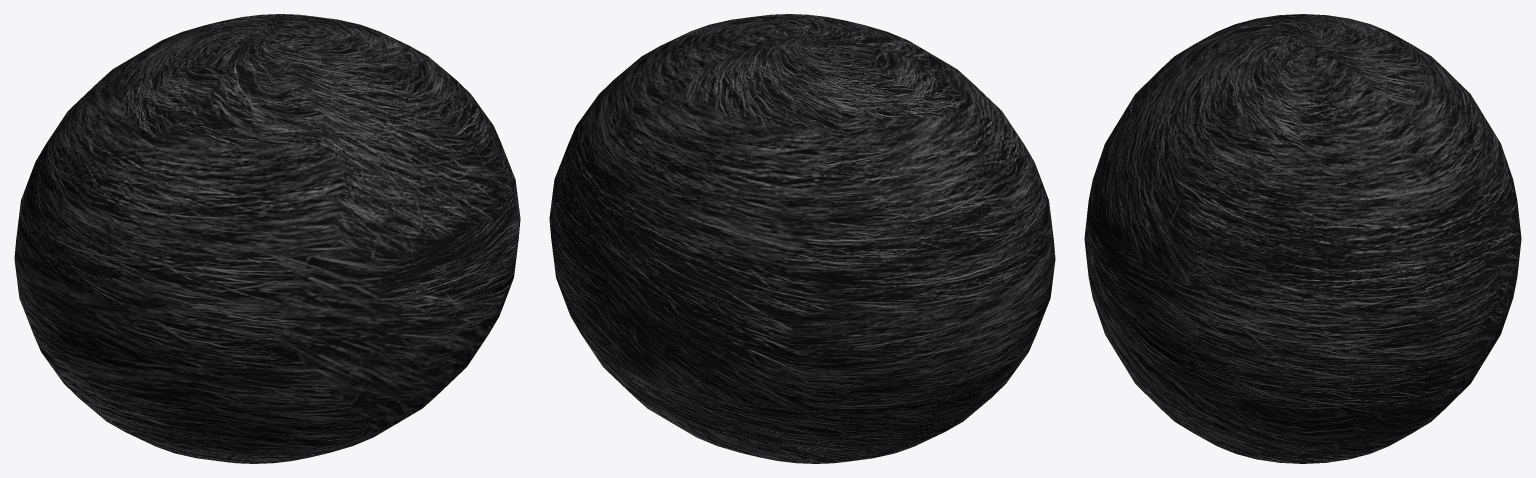
Rendered from guineabody.glb.
3 renders of one model, left to right at view 1: azimuth 30°, elevation 25°; view 2: azimuth 150°, elevation 25°; view 3: azimuth 270°, elevation 25°, orthographic. The views are drawn at different scales.
Visible parts, largest first — view 1: spButt; view 2: spButt; view 3: spButt.
Part boxes in pixels (x1,y1,x2,y2): spButt: (14,14,520,463); spButt: (549,14,1055,463); spButt: (1084,14,1521,463).
Bounding box in the file's own units: 2.35 × 2 × 2.
1 material, 1 textured.
